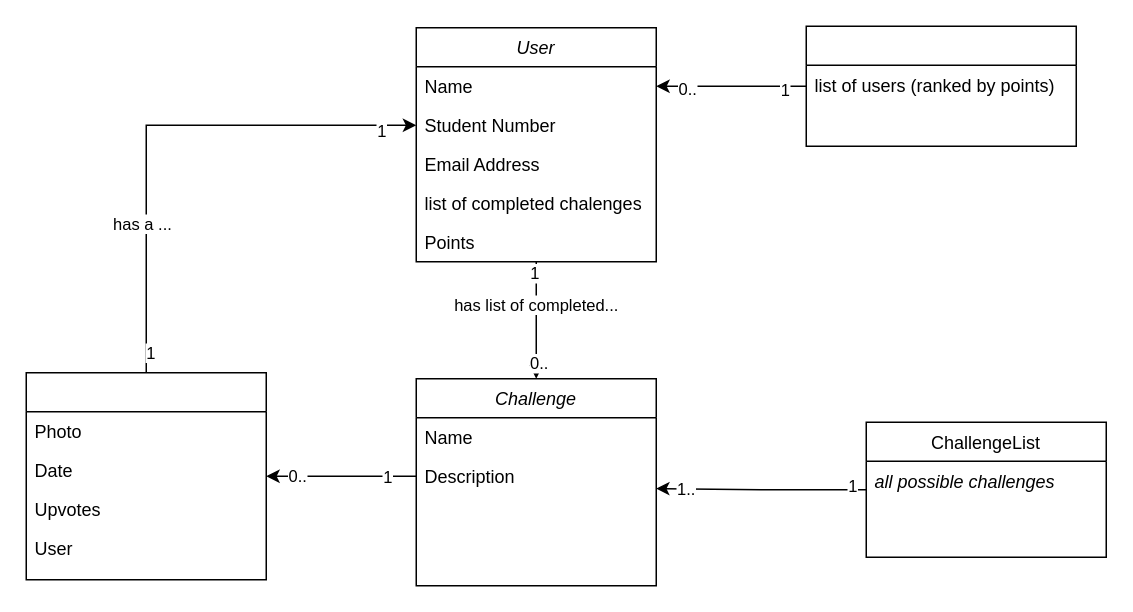
This 1133x612 diagram has some shape labels left out. Each missing label, with the box of its shape:
ChallengeEntry: (25, 371, 266, 580)
Leaderboard: (805, 25, 1076, 146)
